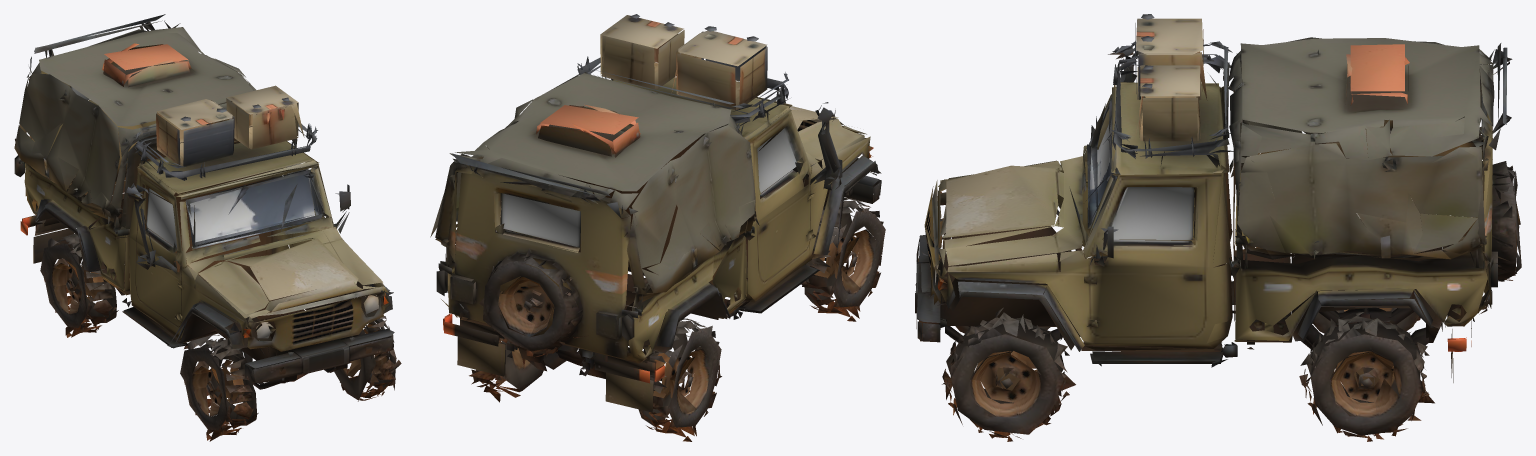
File: ch1_expedition_supply_truck_LOD2.glb
3 renders of one model, left to right at view 1: azimuth 30°, elevation 25°; view 2: azimuth 150°, elevation 25°; view 3: azimuth 270°, elevation 25°, orthographic. The views are drawn at different scales.
Visible parts, largest first — view 1: tripo_node_460f9a1c-10bd-4294-aa59-0ef3abb51b50; view 2: tripo_node_460f9a1c-10bd-4294-aa59-0ef3abb51b50; view 3: tripo_node_460f9a1c-10bd-4294-aa59-0ef3abb51b50.
Boxes of the visible parts, box(x1,y1,x2,y2) form: tripo_node_460f9a1c-10bd-4294-aa59-0ef3abb51b50: box(14, 14, 401, 441); tripo_node_460f9a1c-10bd-4294-aa59-0ef3abb51b50: box(430, 14, 885, 441); tripo_node_460f9a1c-10bd-4294-aa59-0ef3abb51b50: box(915, 14, 1521, 441).
Bounding box in the file's own units: 0.5241 × 0.6409 × 1.01.
1 material, 1 textured.
